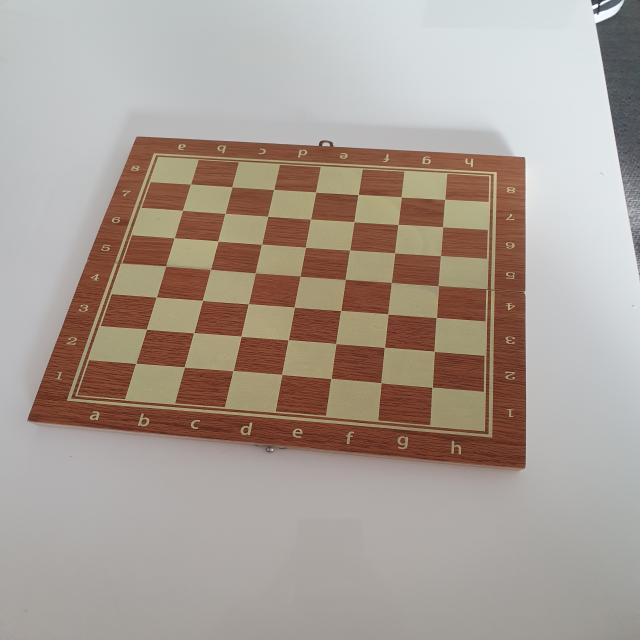chess-table-corners: (468, 419, 510, 452), (51, 386, 88, 411), (476, 162, 509, 184), (142, 146, 172, 166)
